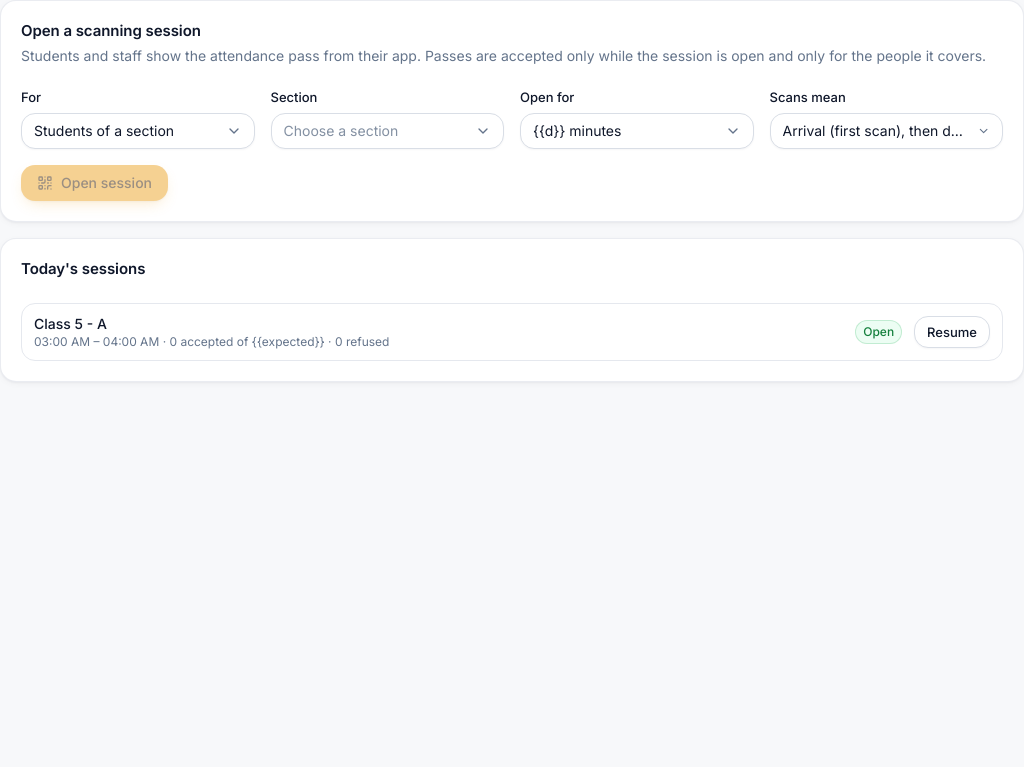
Test: attendance scanning › checks a pass from a handheld scanner against the server and shows its answer
This screenshot has width=1024, height=767.
Click the button "Resume". click: (952, 332)
box: [914,316,990,348]
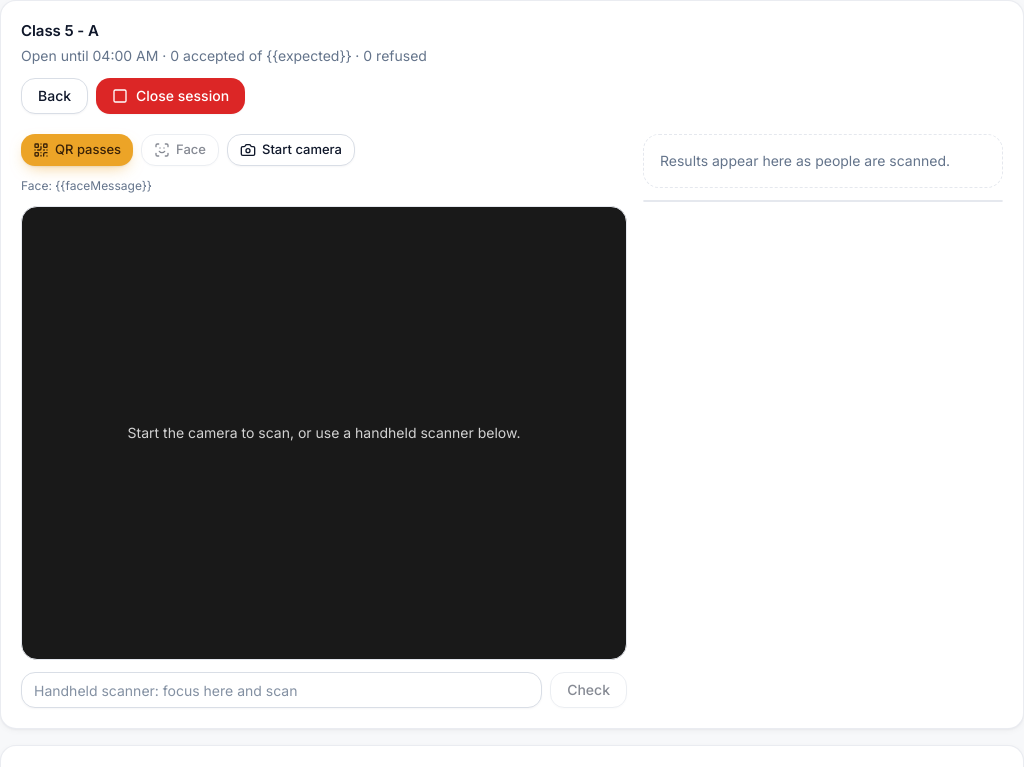
Type "SSAP1.abc.def" into the field named "Pass from a handheld scanner". click: (282, 690)
box: [21,672,542,708]
Then press Enter
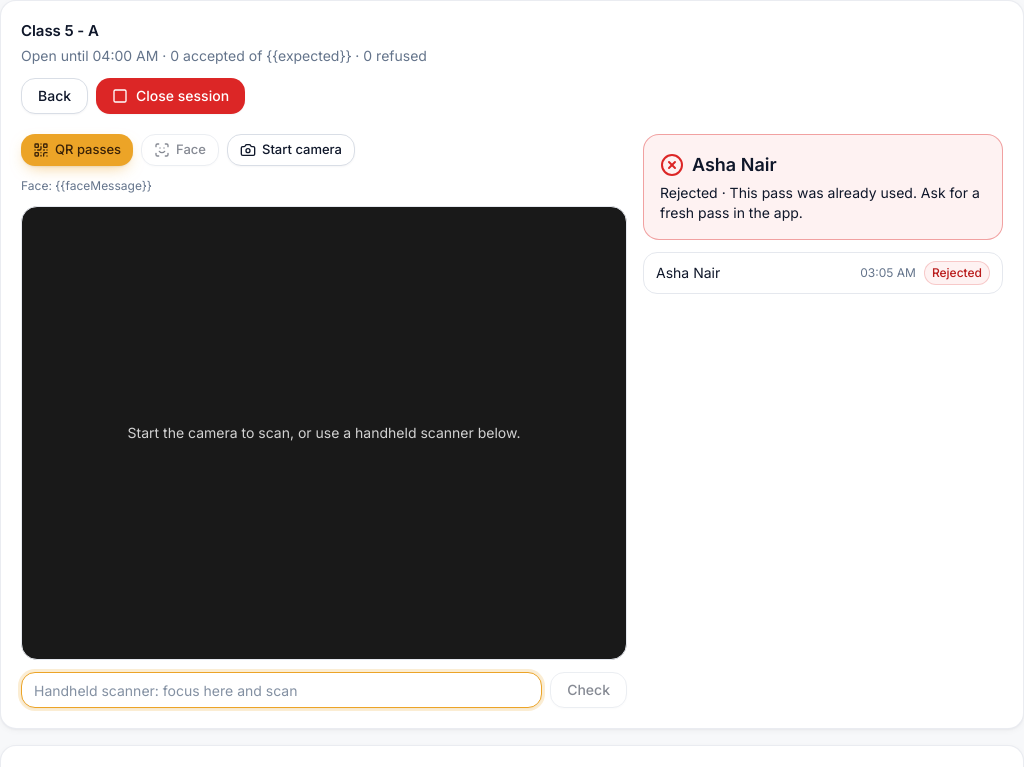
expect the text "already used" is shown: met, box [660,184,980,221]
